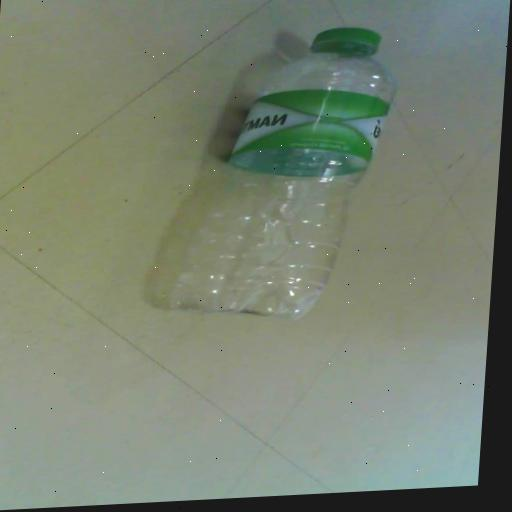bottle: (112, 9, 446, 349)
